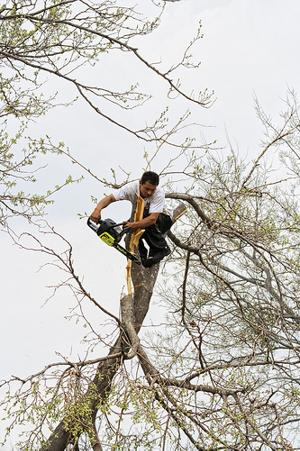person: (90, 171, 172, 362)
